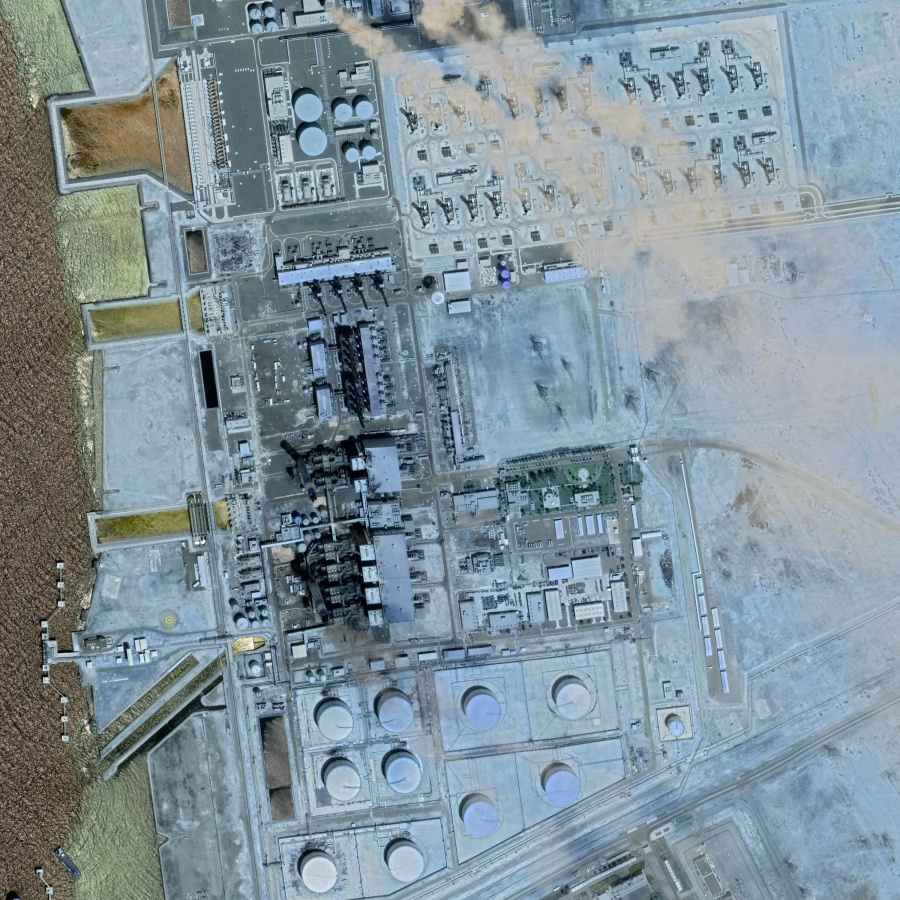PowerPlant: (227, 312, 449, 628)
